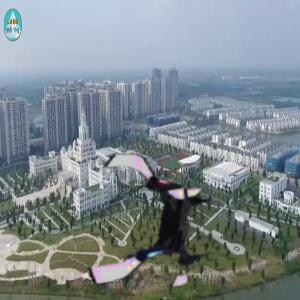drone: (74, 146, 224, 296)
